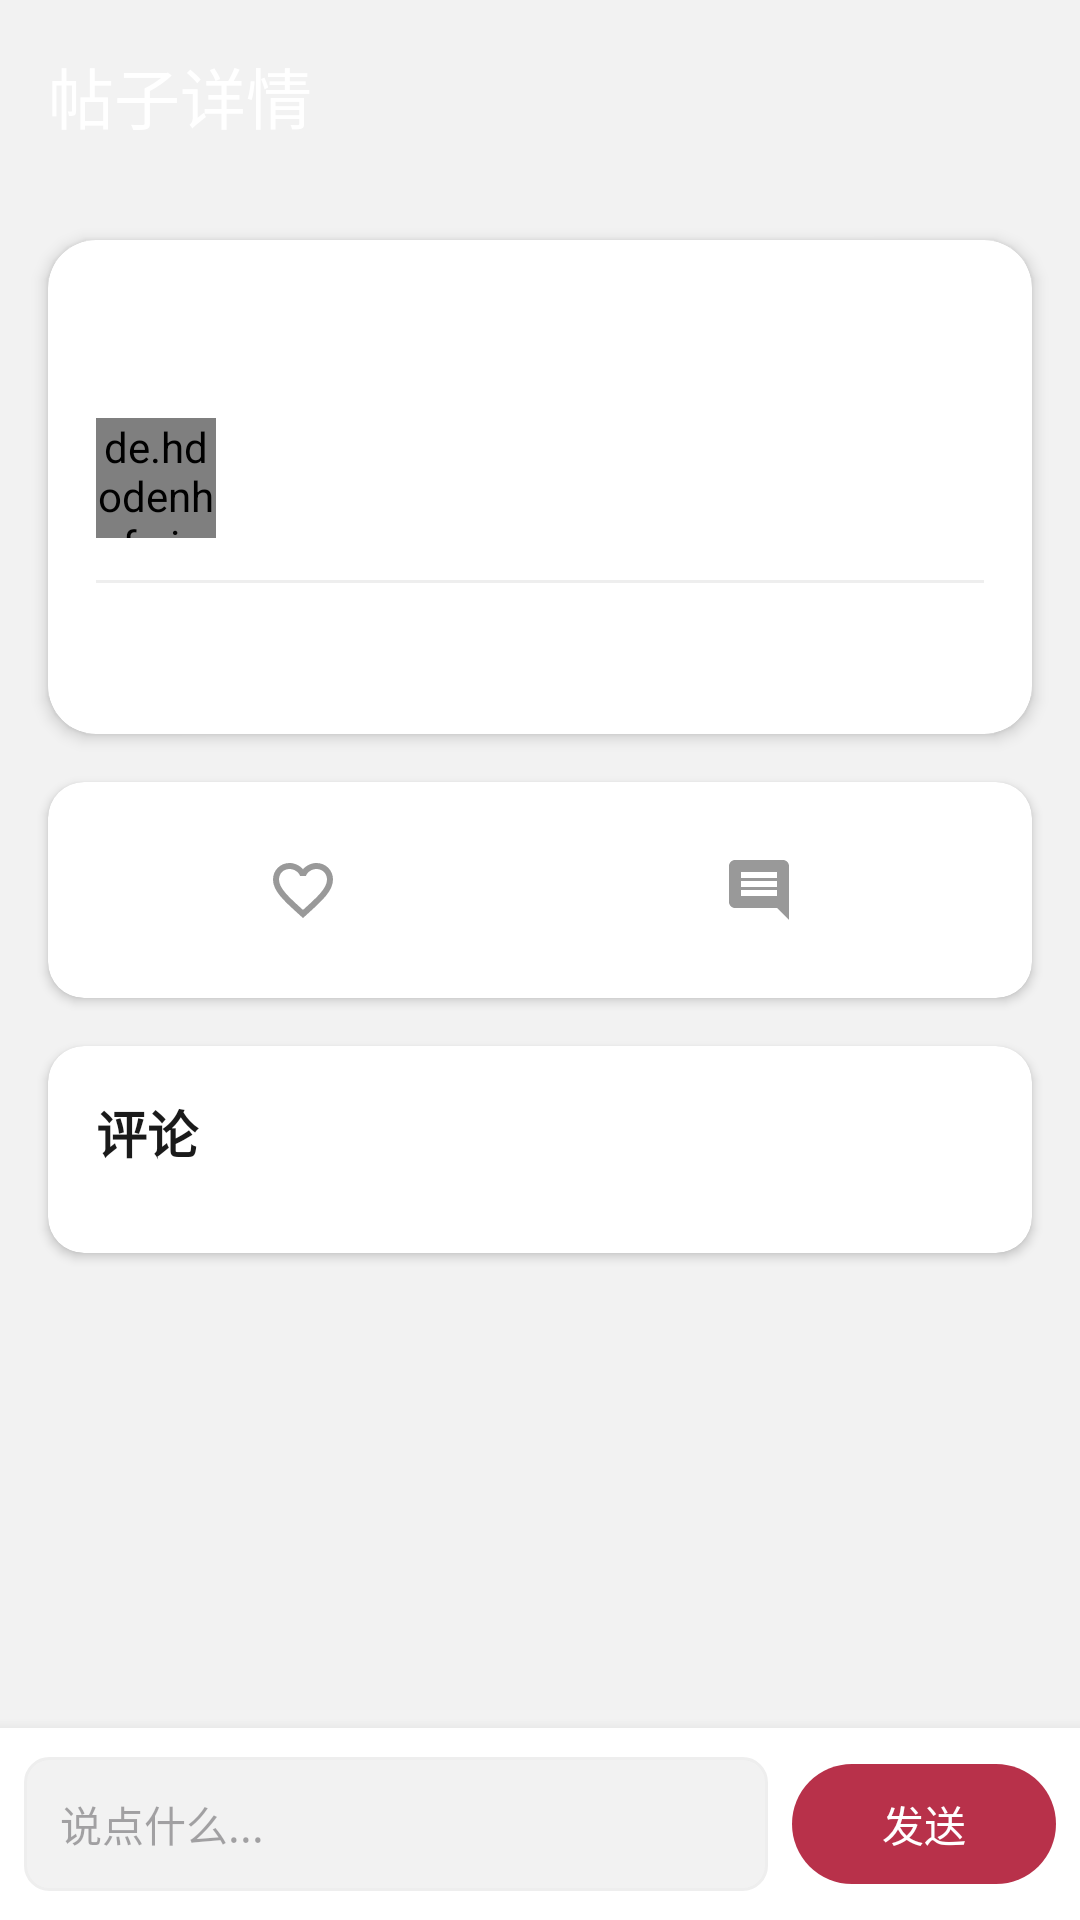

Where to tap for icons on this 1080*1920 app screen, as point (x, y):
comment: point (759, 890)
heart: point (303, 890)
